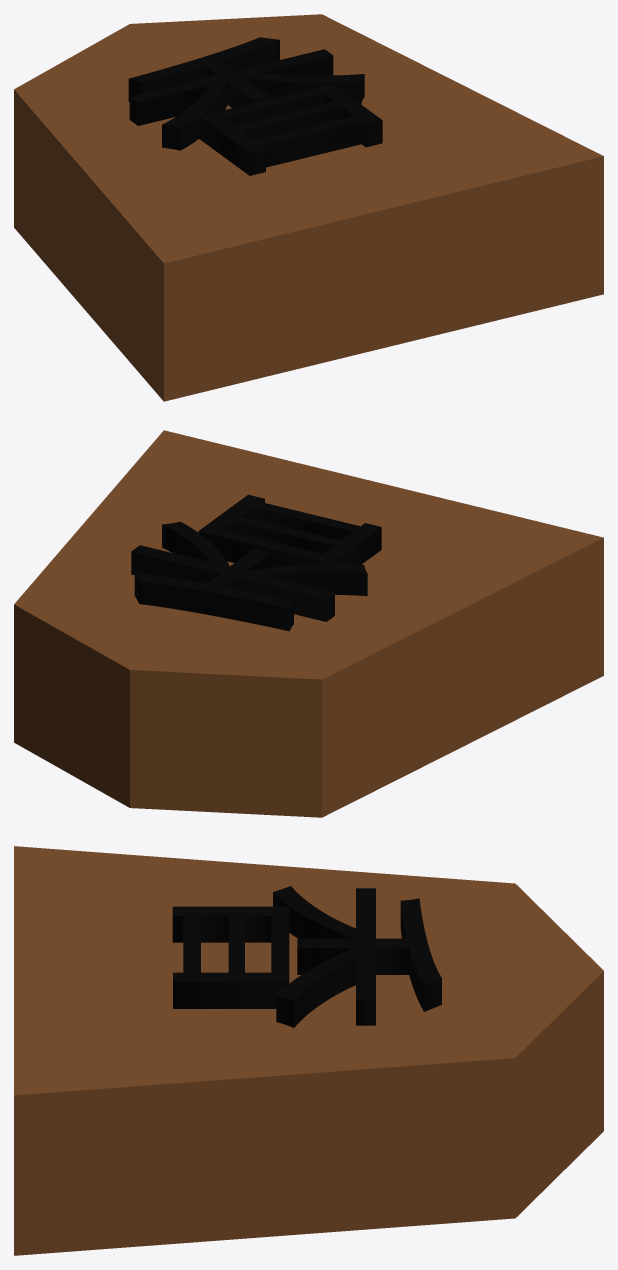
File: Kyousha.fbx
3 views of the same model, one above another, from view 1: azimuth 30°, elevation 25°; view 2: azimuth 150°, elevation 25°; view 3: azimuth 270°, elevation 25° (orthographic). The views are drawn at different scales.
Visible parts, largest first — view 1: Cube, テキスト; view 2: Cube, テキスト; view 3: Cube, テキスト.
Part boxes in pixels (x1,y1,x2,y2): Cube: [14, 14, 603, 401]; テキスト: [128, 37, 382, 175]; Cube: [14, 430, 603, 817]; テキスト: [131, 494, 381, 631]; Cube: [14, 846, 603, 1255]; テキスト: [172, 886, 441, 1027].
Bounding box in the file's own units: 200 × 70 × 200.
